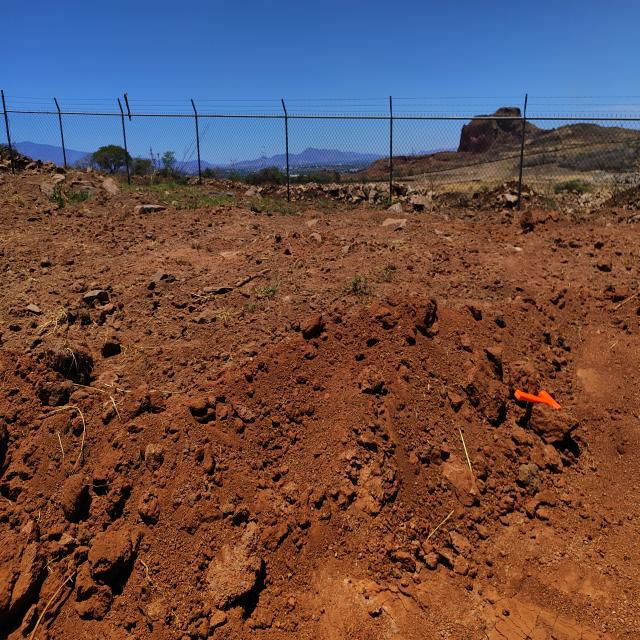Orange_hammer: (513, 388, 562, 411)
